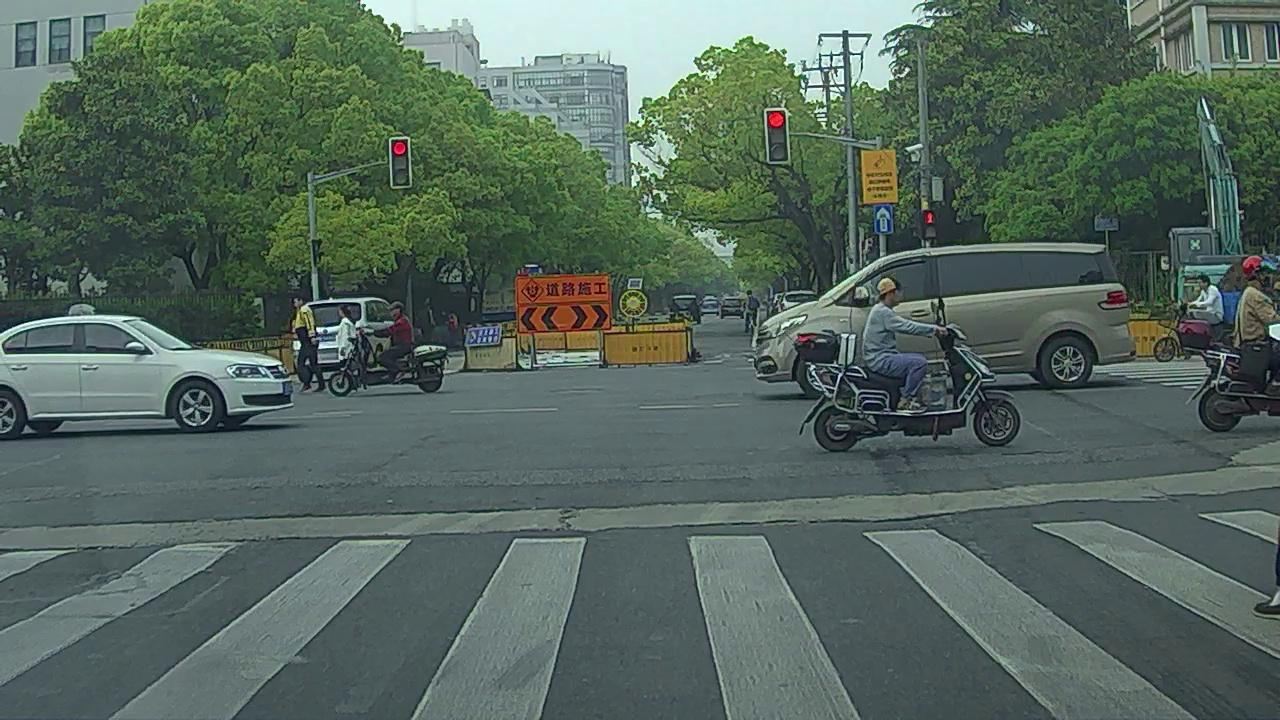traffic_light: (388, 137, 411, 187), (766, 110, 788, 161)
